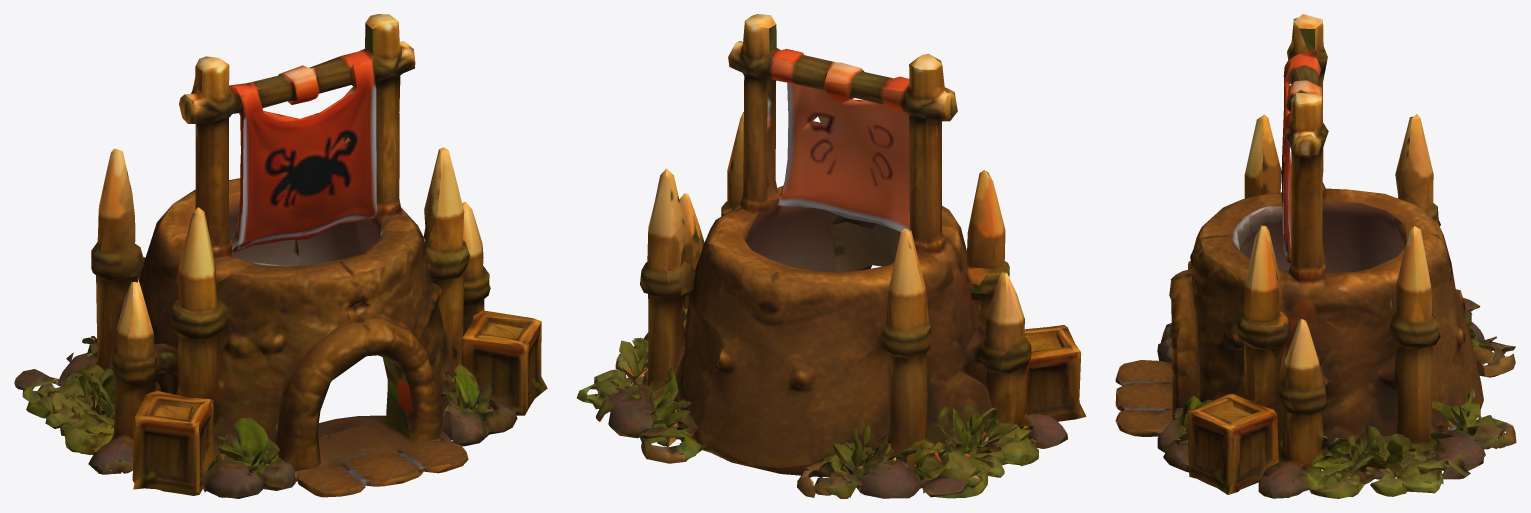
File: Barracks.glb
3 renders of one model, left to right at view 1: azimuth 30°, elevation 25°; view 2: azimuth 150°, elevation 25°; view 3: azimuth 270°, elevation 25°, orthographic. The views are drawn at different scales.
Bounding box in the file's own units: 1.99 × 1.66 × 1.72.
Materials: 1 (1 with a texture image).
